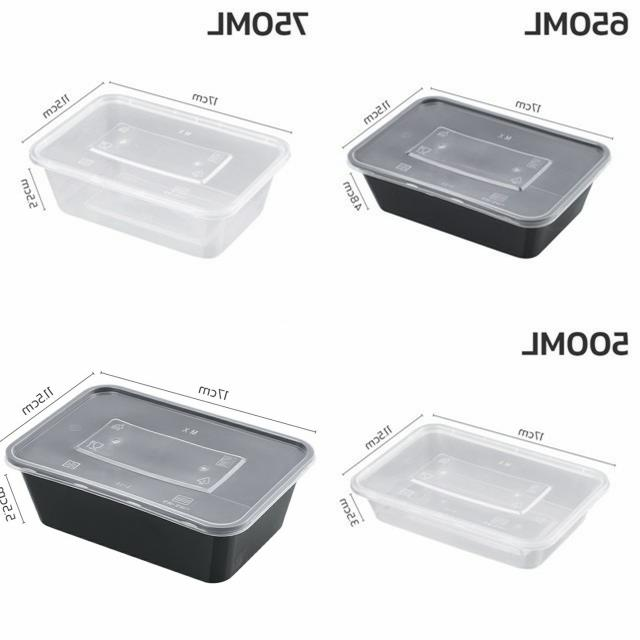Single-Use-Plastic: (8, 386, 314, 581), (30, 94, 289, 258), (348, 96, 610, 257), (351, 424, 609, 568)
